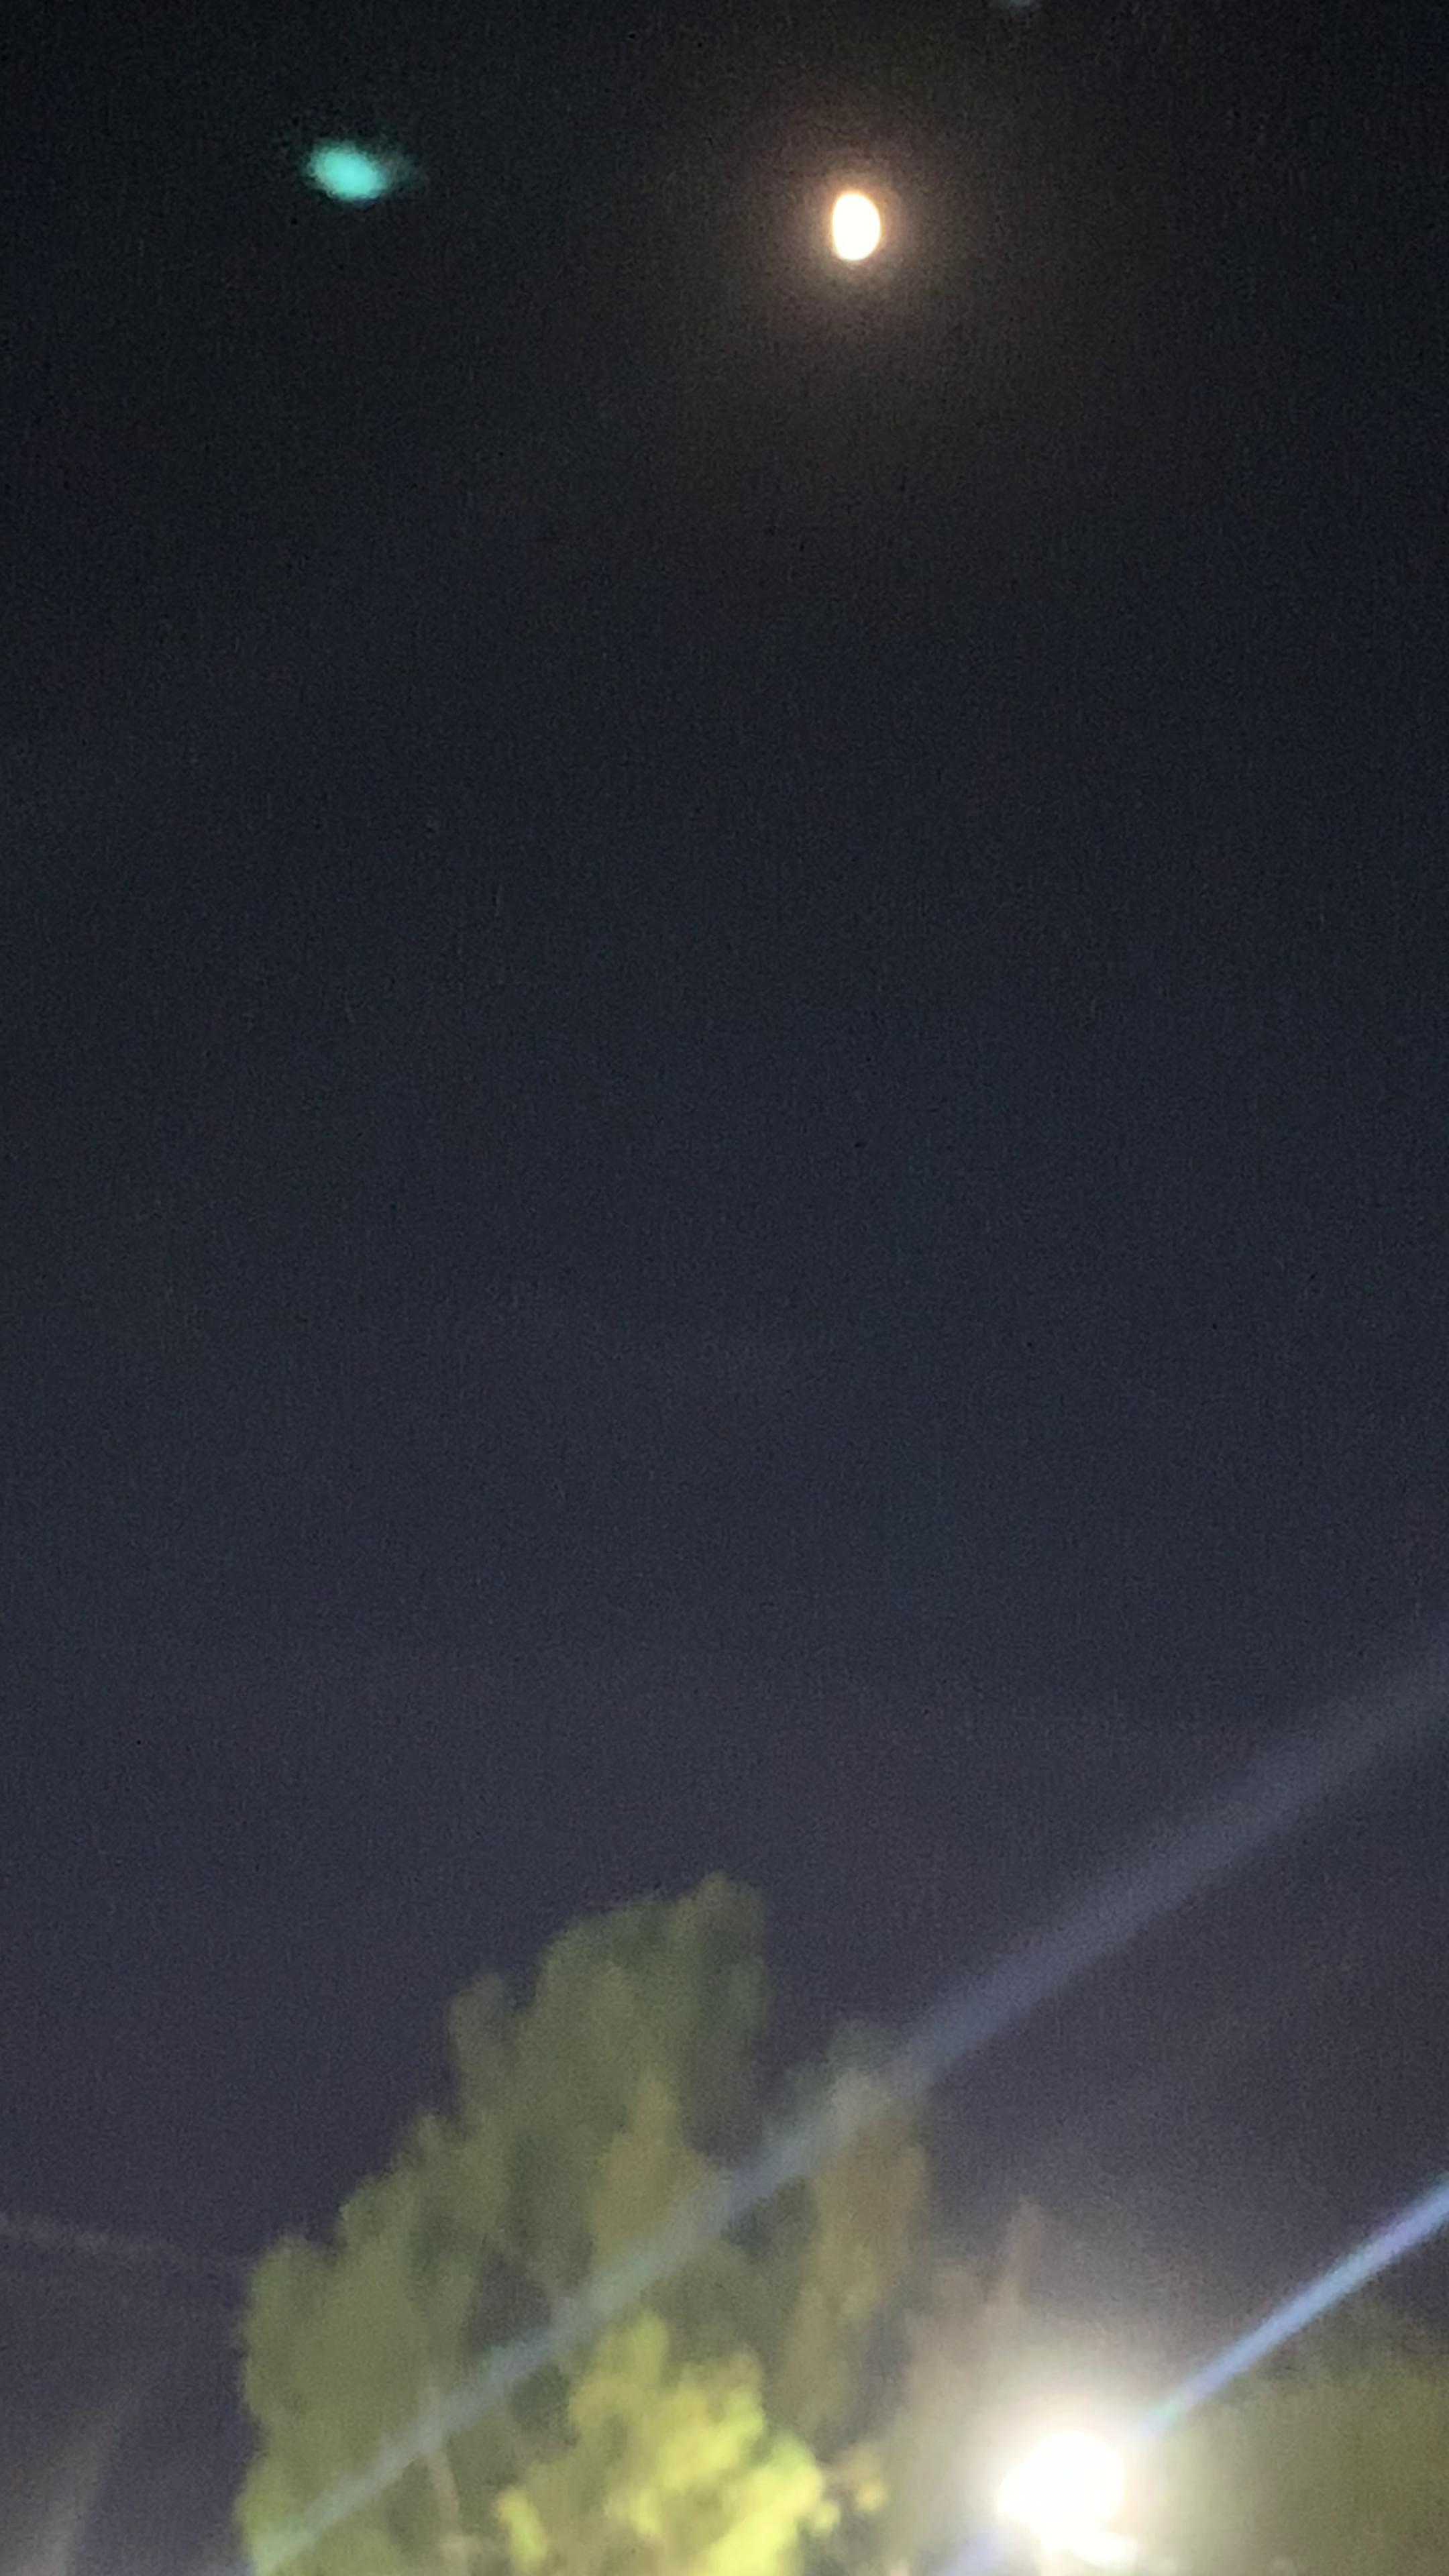moon: (787, 165, 922, 288)
